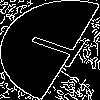T: (24, 25, 98, 72)
